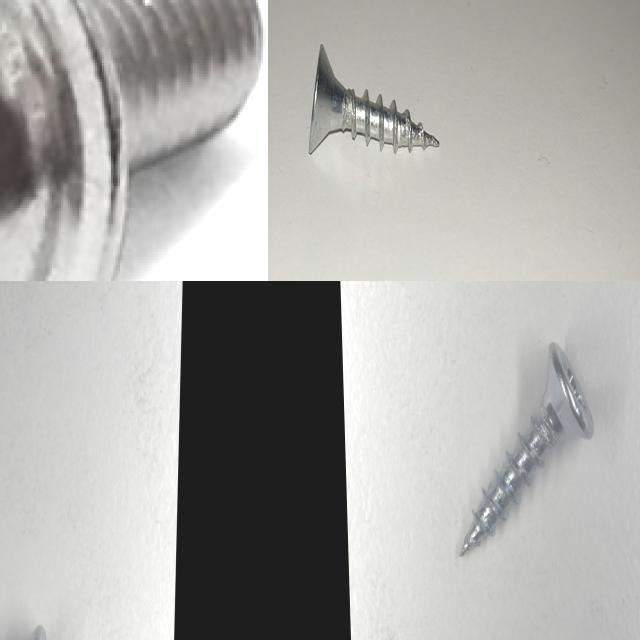Screw: (0, 0, 263, 281), (460, 342, 595, 554), (309, 43, 440, 153)
